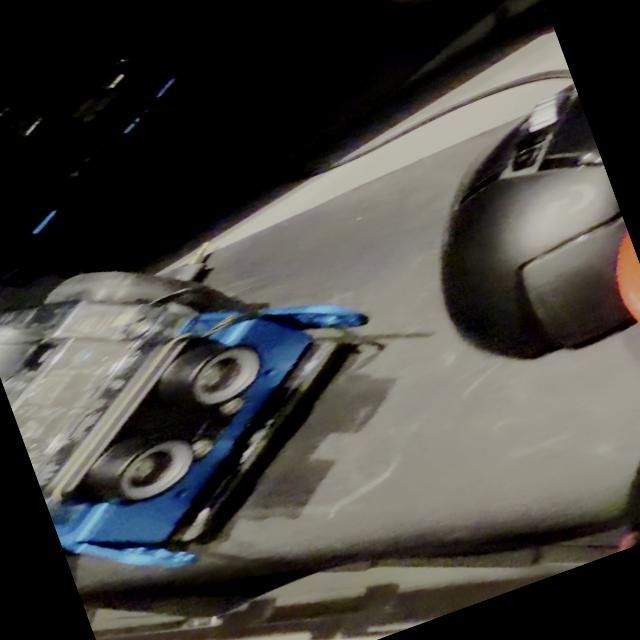mbot-detection: (0, 169, 442, 618)
